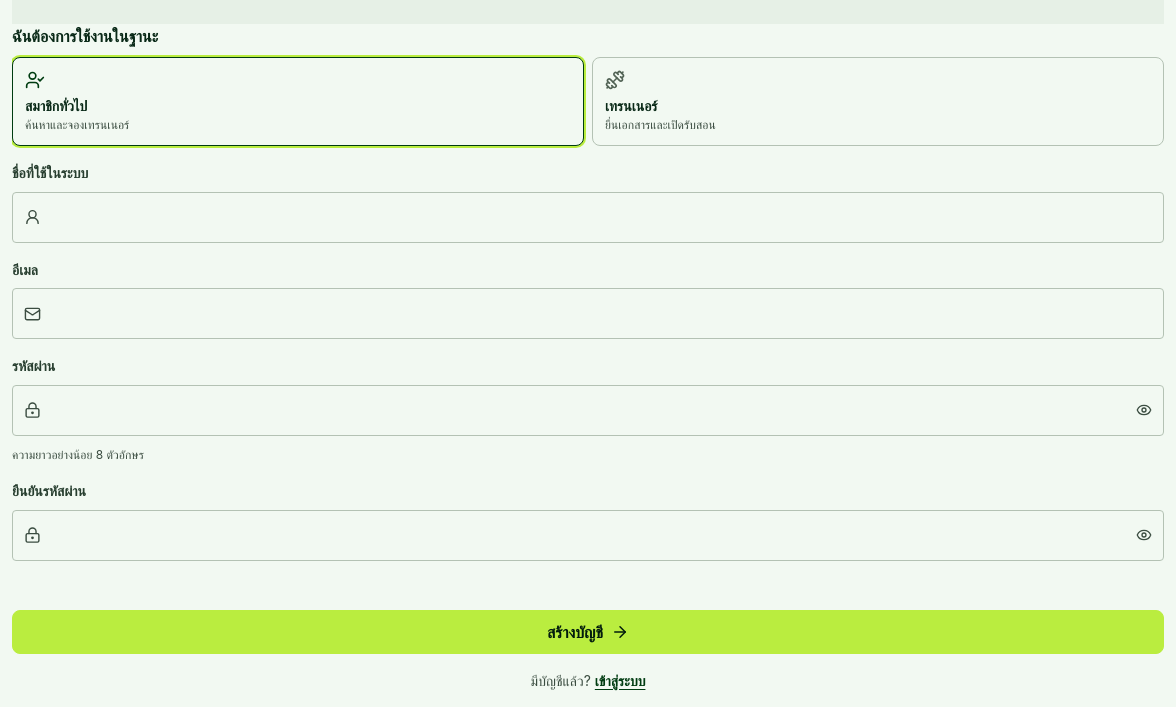
Scenario: AuthForm trainer onboarding and enhanced UX › explains the review step only while the trainer role is chosen
The width and height of the screenshot is (1176, 707).
Expected: the text "ยื่นใบสมัครกับเอกสาร PDF" is not shown
Click the radio button labelled "เทรนเนอร์ ยื่นเอกสารและเปิดรับสอน" at x=631, y=105, box [592, 57, 1164, 146]
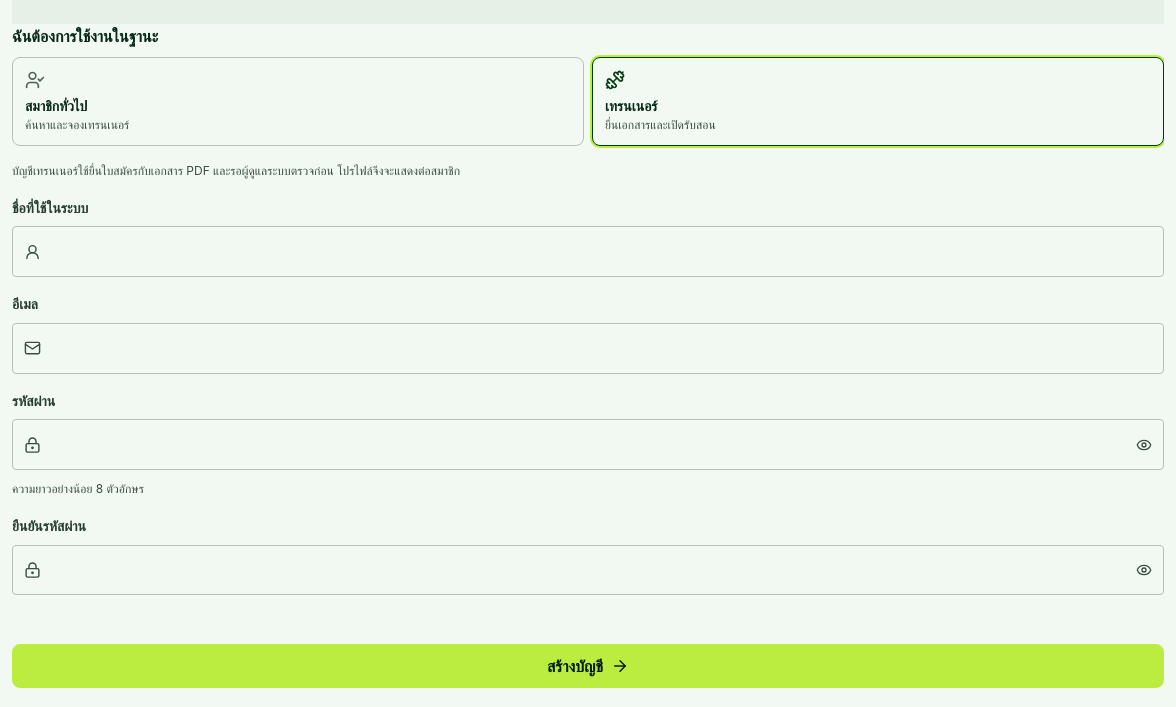
Expected: the text "ยื่นใบสมัครกับเอกสาร PDF" is shown, [12, 163, 460, 178]
